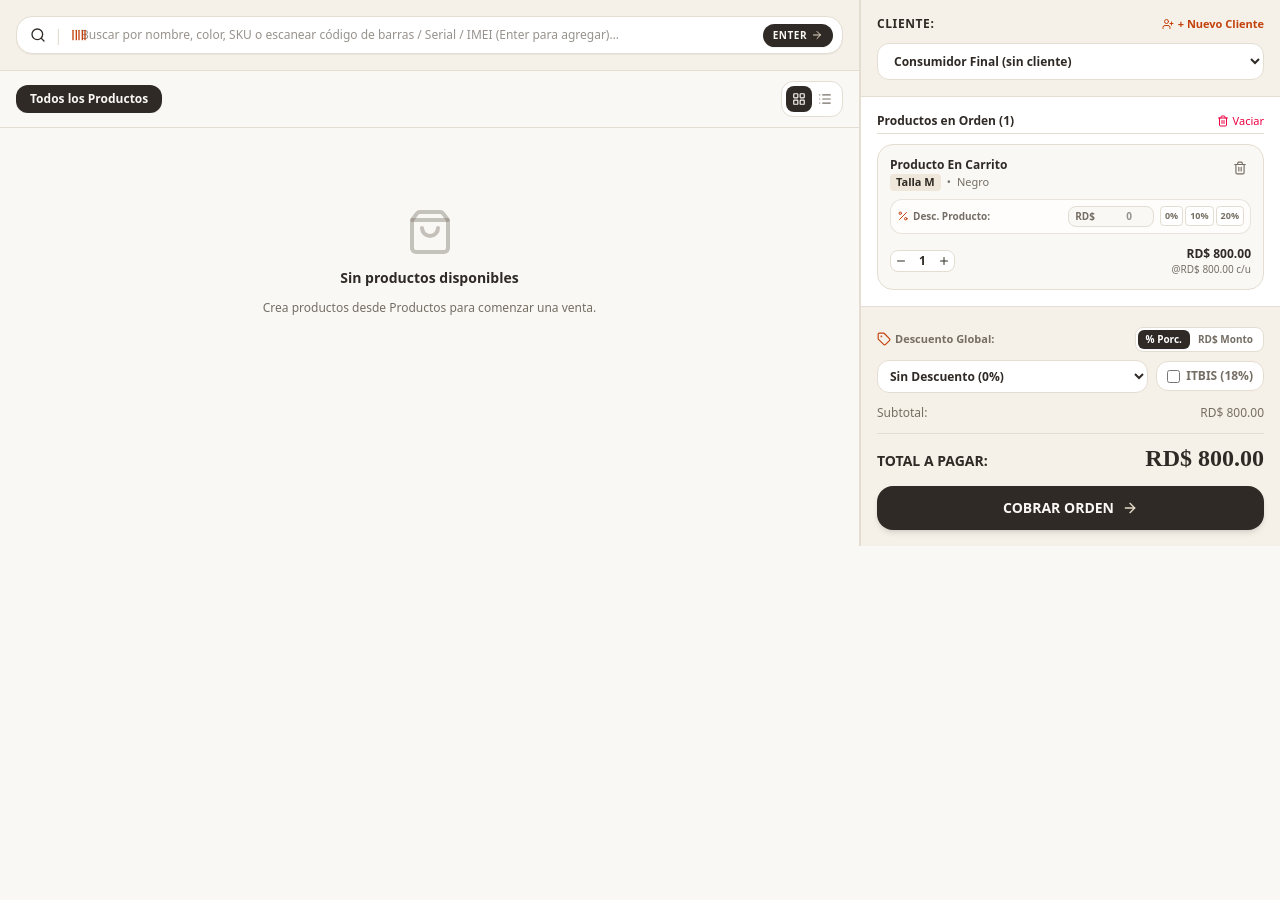
Test: POSView -- cliente nuevo queda seleccionado automáticamente › con productos ya en el carrito: crear un cliente NO altera el carrito ni el total, y sí selecciona al cliente
Expected: the text "Productos en Orden (1)" is shown, x1=877 y1=113 x2=1014 y2=129
Expected: the text "RD$ 800.00" below "Desc. Producto:" is shown, x1=1186 y1=244 x2=1251 y2=262
Click the button "+ Nuevo Cliente" at (1213, 24), box x1=1162 y1=16 x2=1264 y2=32
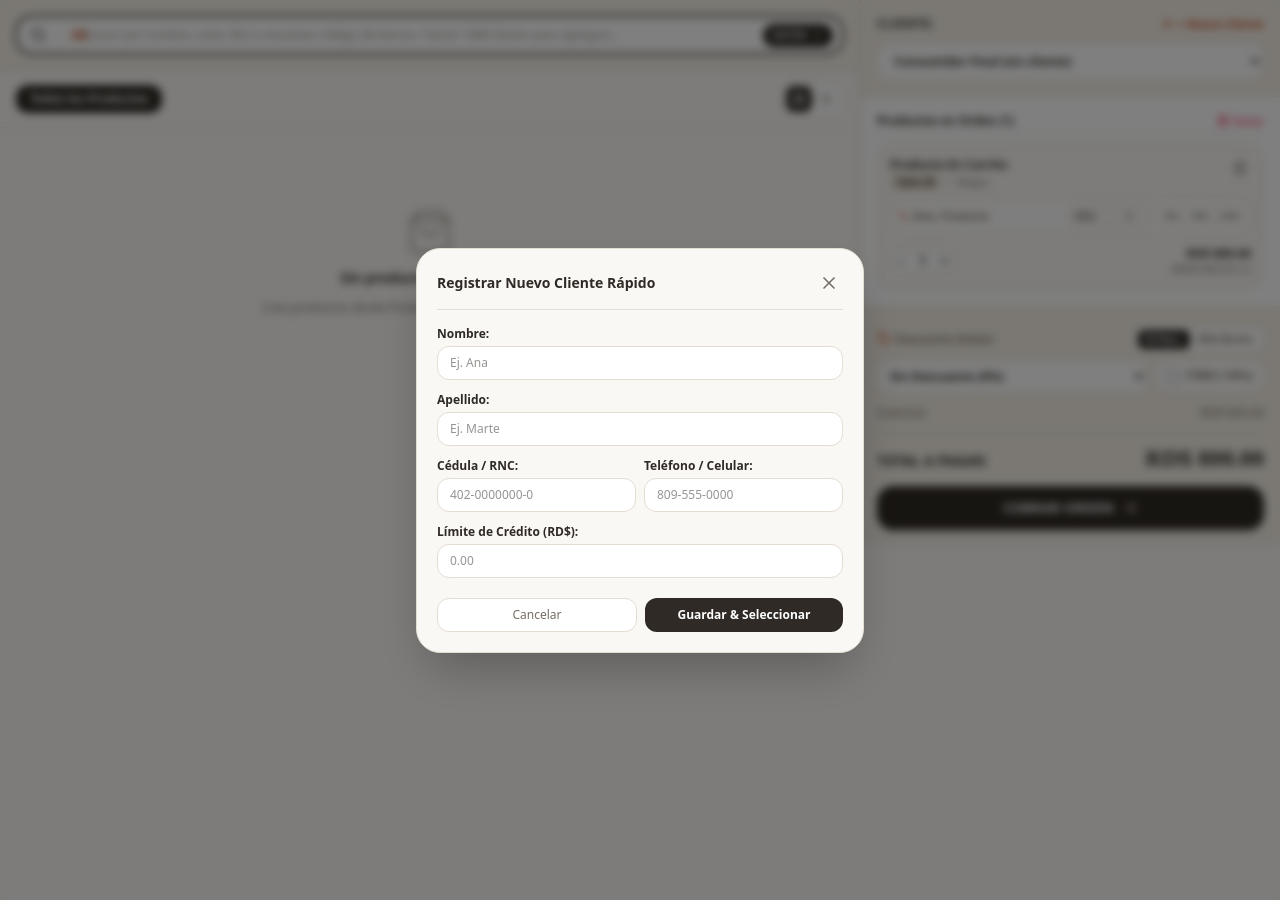
Expected: the heading "Registrar Nuevo Cliente Rápido" is shown, x1=437 y1=272 x2=655 y2=292
Type "Cliente Con Carrito" into the field with placeholder "Ej. Ana" at (640, 362), box x1=437 y1=346 x2=843 y2=380
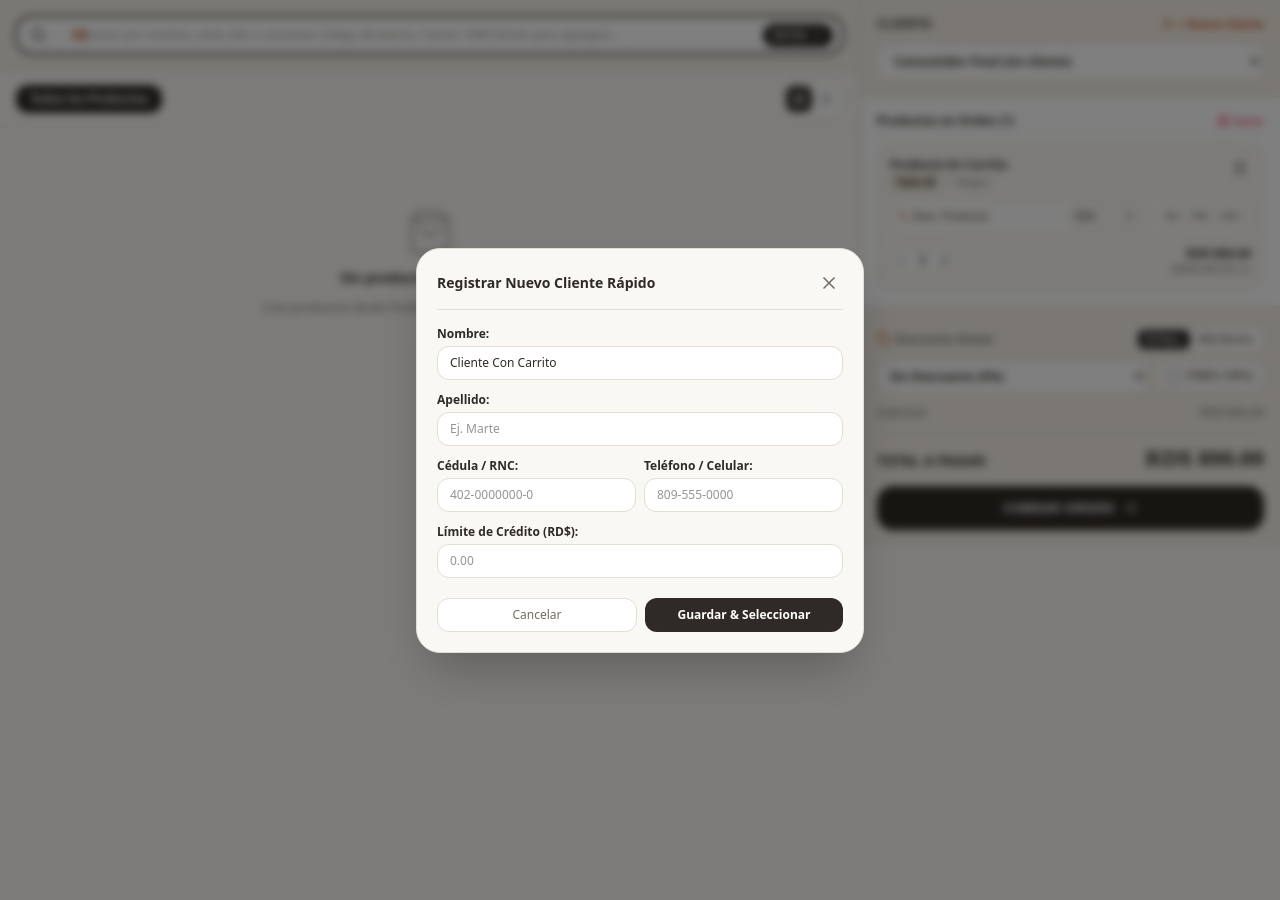
Click the button "Guardar & Seleccionar" at (744, 614), box x1=645 y1=598 x2=843 y2=632
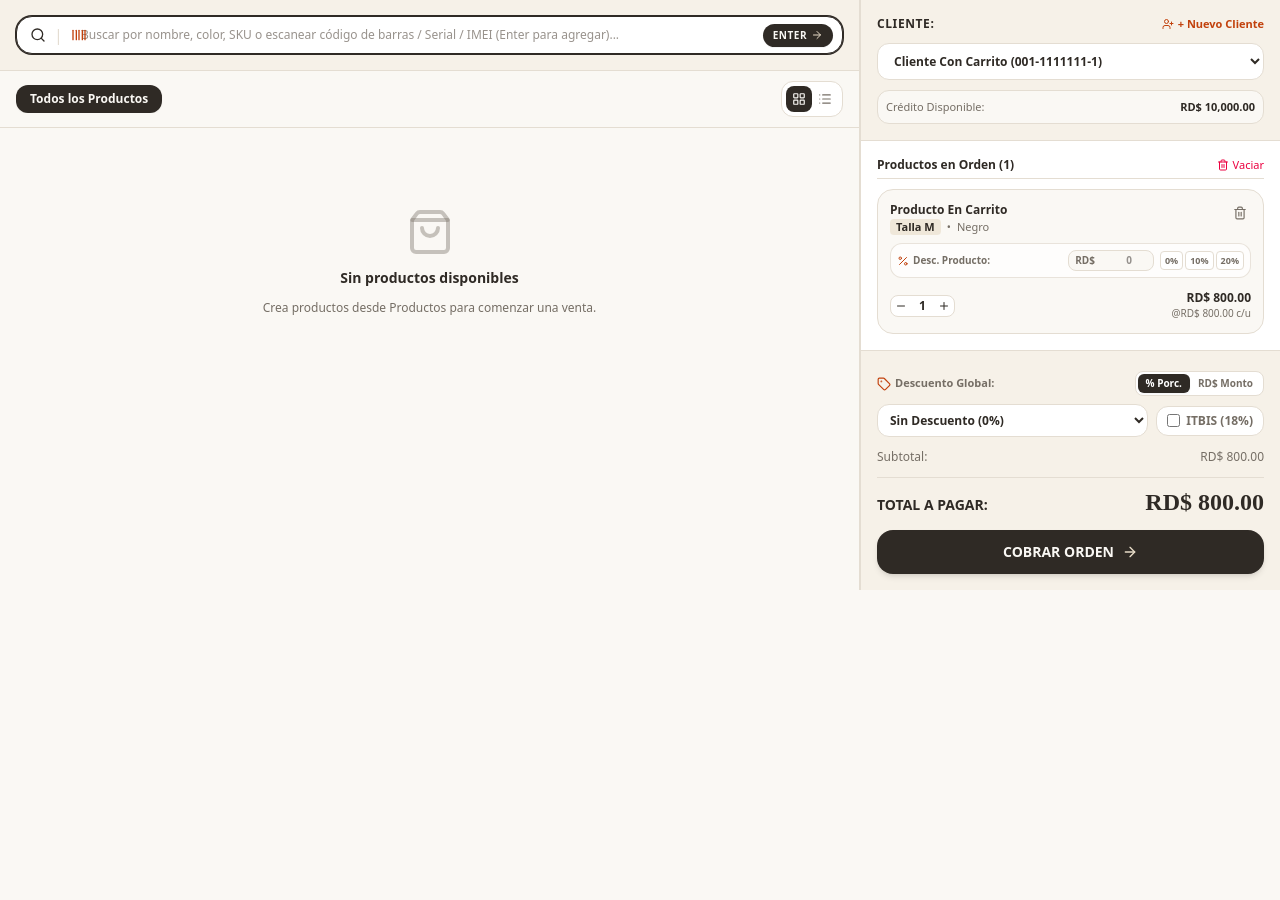
Expected: the text "Productos en Orden (1)" is shown, x1=877 y1=157 x2=1014 y2=173
Expected: the dropdown named "Cliente" shows "Cliente Con Carrito (001-1111111-1)", x1=877 y1=42 x2=1264 y2=80
